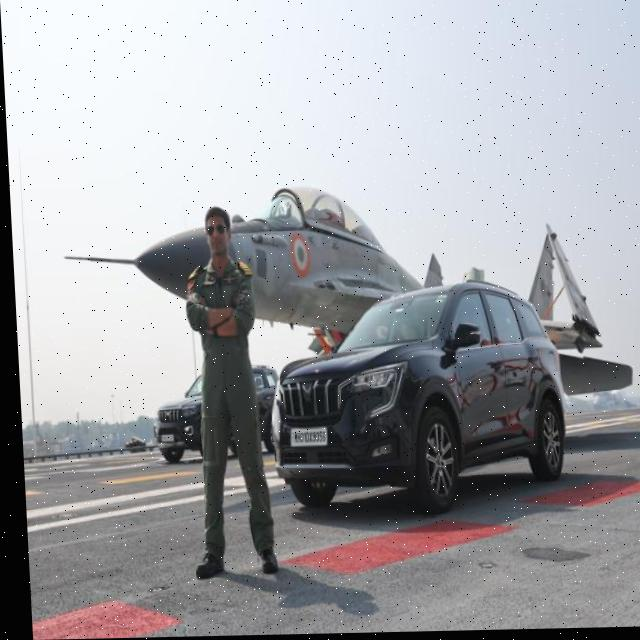plate: (283, 426, 323, 448), (154, 433, 171, 445)
